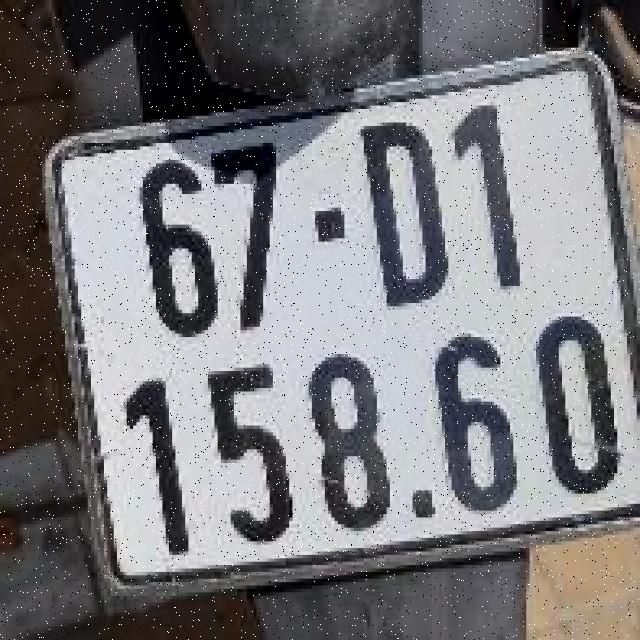0: (528, 308, 629, 499)
1: (450, 109, 544, 303), (114, 374, 198, 568)
5: (198, 357, 296, 555)
6: (431, 328, 531, 516), (132, 158, 219, 342)
7: (211, 138, 286, 342)
8: (301, 348, 401, 534)
D: (351, 121, 451, 311)
